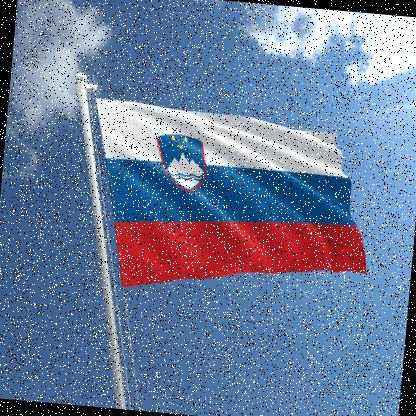si: (77, 93, 386, 310)
